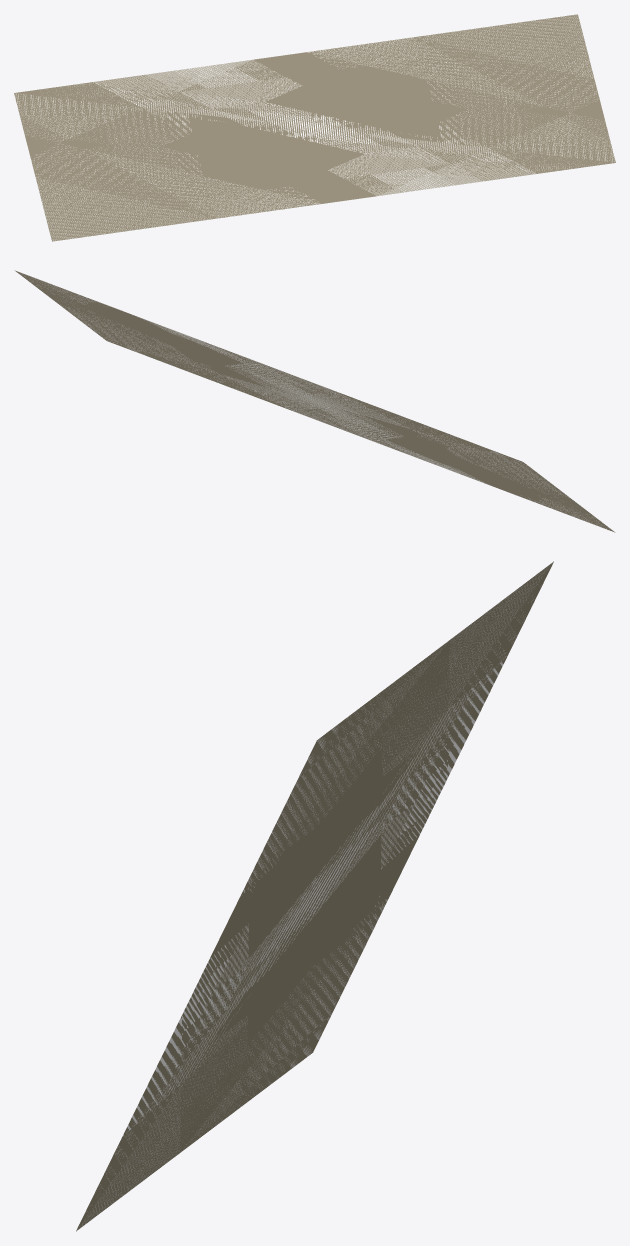
File: 大本钟107.dae
3 views of the same model, one above another, from view 1: azimuth 30°, elevation 25°; view 2: azimuth 150°, elevation 25°; view 3: azimuth 270°, elevation 25° (orthographic). The views are drawn at different scales.
Parts seen in each view (by area): view 1: SketchUp; view 2: SketchUp; view 3: SketchUp.
Part boxes in pixels (<box>): SketchUp: <box>14,14,615,241</box>; SketchUp: <box>14,270,615,532</box>; SketchUp: <box>76,561,553,1231</box>.
Bounding box in the file's own units: 40.77 × 16.1 × 7.42.
